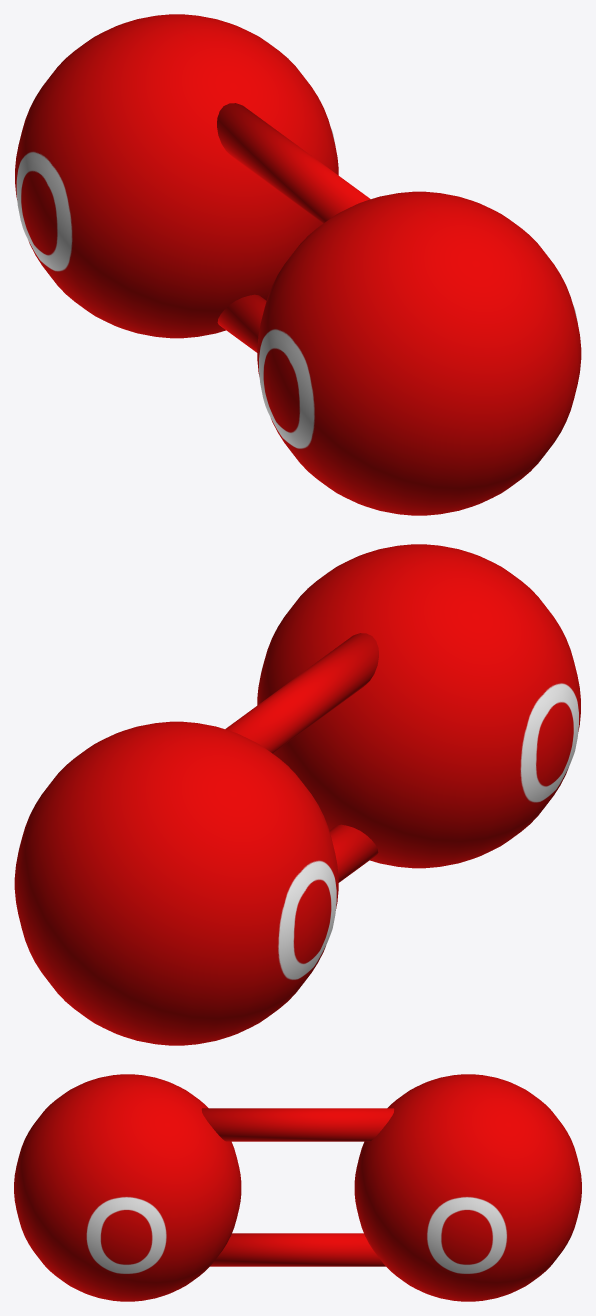
Rendered from oxigenio.glb.
3 views of the same model, one above another, from view 1: azimuth 30°, elevation 25°; view 2: azimuth 150°, elevation 25°; view 3: azimuth 270°, elevation 25° (orthographic). The views are drawn at different scales.
Parts seen in each view (by area): view 1: Mol molde 4; view 2: Mol molde 4; view 3: Mol molde 4.
Boxes of the visible parts, x1=… form: Mol molde 4: x1=15, y1=14, x2=581, y2=515; Mol molde 4: x1=14, y1=544, x2=580, y2=1045; Mol molde 4: x1=14, y1=1074, x2=581, y2=1301.
Size of the model in its own units: 0.3054 by 0.3054 by 0.7619.
Materials: 2 (2 with a texture image).
